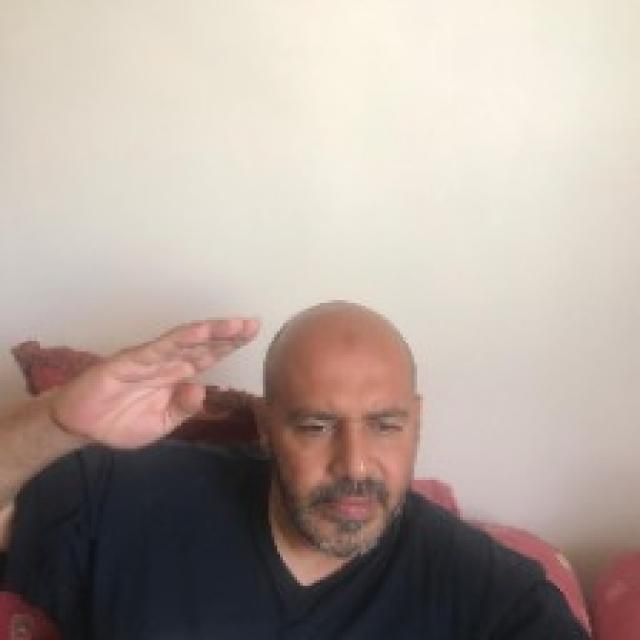Thanks: (51, 310, 270, 455)
